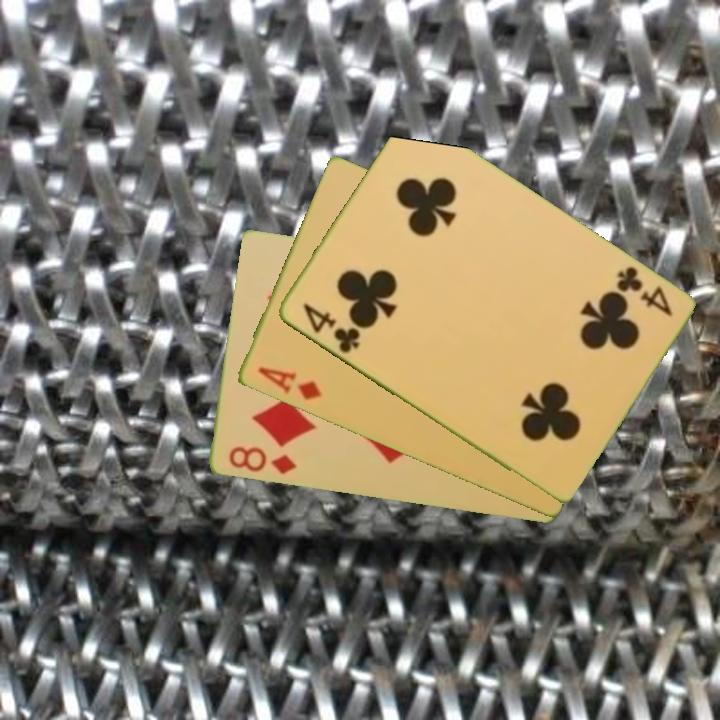4c: (299, 300, 363, 357), (612, 263, 675, 320)
8d: (224, 443, 299, 478)
Ad: (254, 363, 324, 404)
